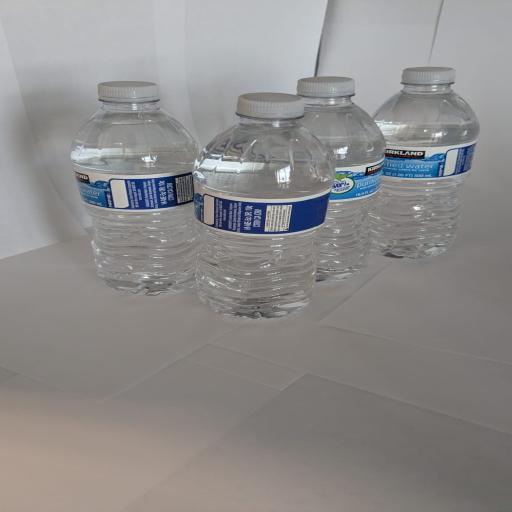waterbottle: (194, 93, 333, 317), (71, 82, 198, 295), (371, 68, 479, 258), (298, 77, 384, 280)
